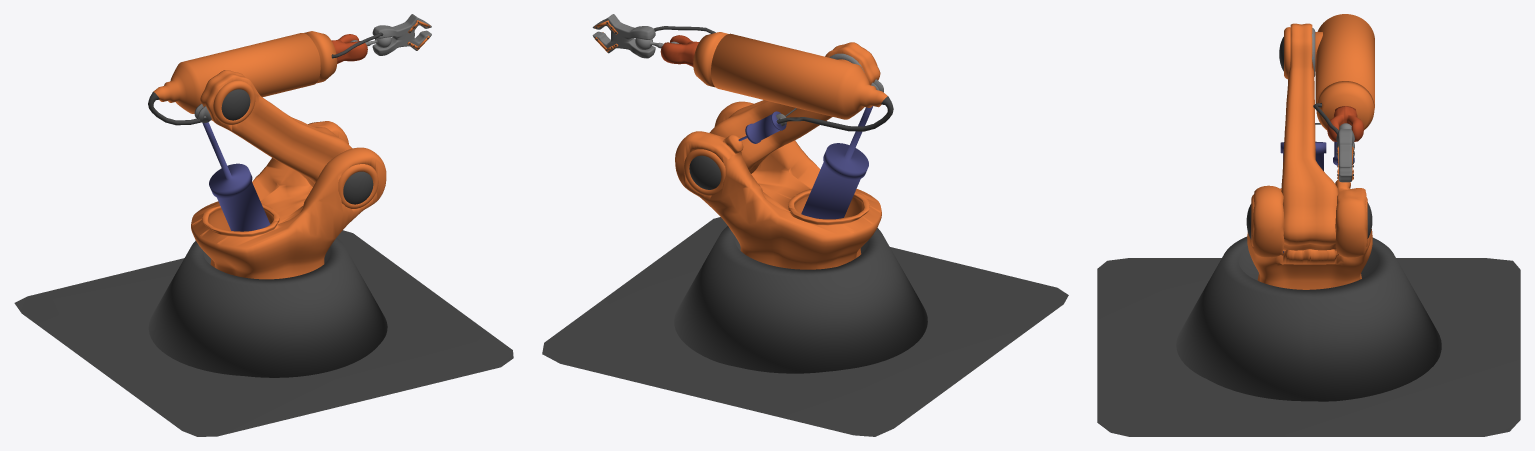
The model's file is maquina3.gltf.
The picture shows the model from 3 angles, left to right: view 1: azimuth 30°, elevation 25°; view 2: azimuth 150°, elevation 25°; view 3: azimuth 270°, elevation 25°; orthographic projection. The views are drawn at different scales.
Parts seen in each view (by area): view 1: Plano, Torus, Cono; view 2: Plano, Torus, Cono; view 3: Plano, Cono, Torus.
Part boxes in pixels (x1=…): Plano: x1=14, y1=230, x2=513, y2=436; Torus: x1=148, y1=14, x2=431, y2=279; Cono: x1=148, y1=237, x2=387, y2=377; Plano: x1=542, y1=217, x2=1068, y2=436; Torus: x1=592, y1=14, x2=893, y2=269; Cono: x1=674, y1=226, x2=927, y2=373; Plano: x1=1097, y1=258, x2=1520, y2=436; Cono: x1=1176, y1=236, x2=1441, y2=401; Torus: x1=1246, y1=14, x2=1374, y2=289.
Bounding box in the file's own units: 209 × 157 × 200.
